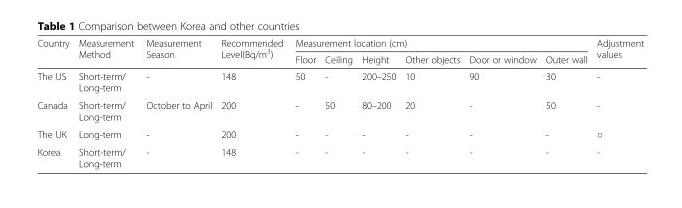table: (36, 36, 643, 168)
table column: (463, 36, 540, 168), (139, 36, 215, 168), (215, 36, 288, 168), (73, 36, 139, 168), (399, 36, 463, 168), (591, 36, 643, 168), (540, 36, 591, 168), (356, 36, 399, 168), (36, 36, 73, 168), (319, 36, 356, 168), (288, 36, 319, 168)
table column header: (36, 36, 643, 67)
table row: (36, 67, 643, 96), (36, 96, 643, 124), (36, 143, 643, 168), (36, 124, 643, 143), (36, 50, 643, 67), (36, 36, 643, 50)
table spanning cell: (288, 36, 591, 50), (139, 36, 215, 67), (215, 36, 288, 67), (73, 36, 139, 67), (591, 36, 643, 67), (36, 36, 73, 67)
